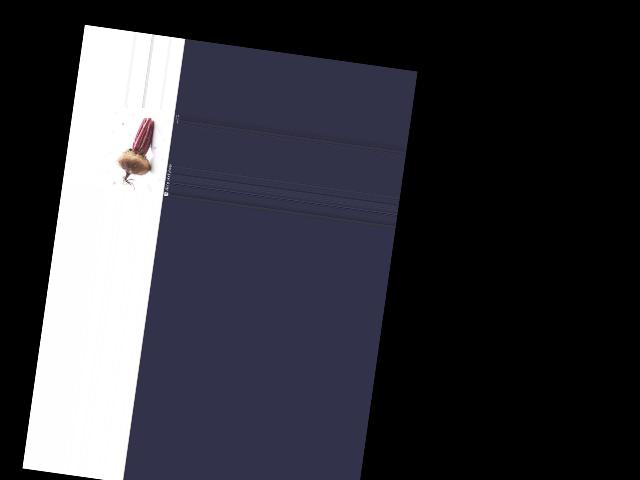beet: (114, 114, 157, 191)
